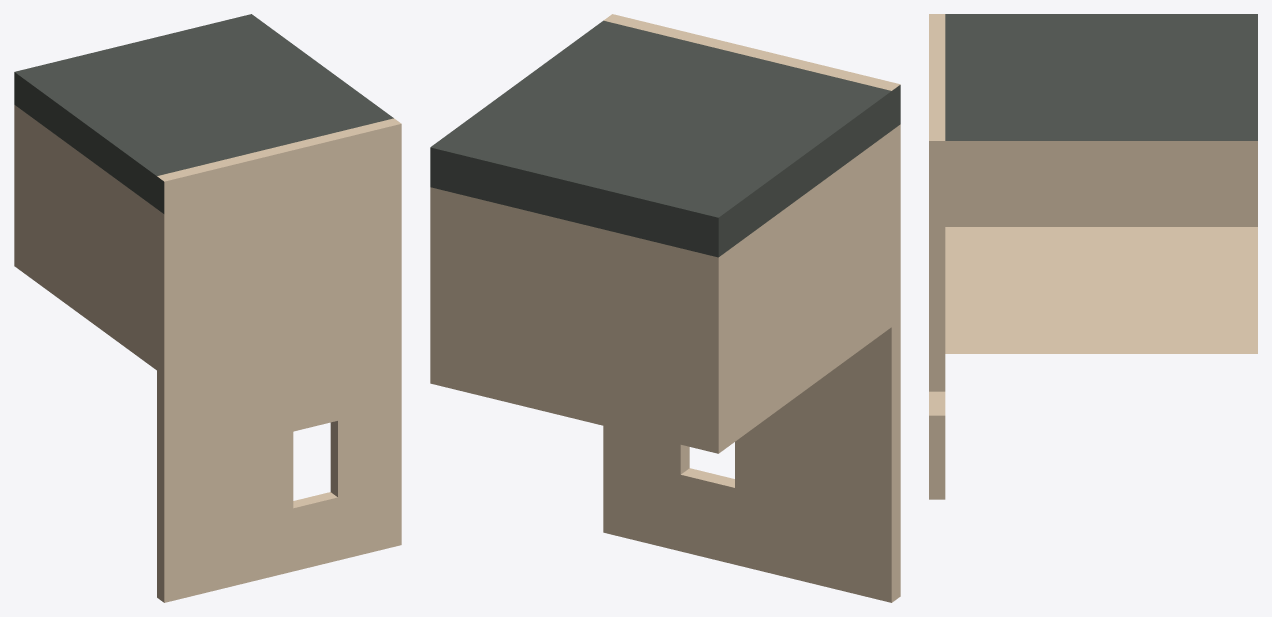
3 views of the same model, side by side, from view 1: azimuth 30°, elevation 25°; view 2: azimuth 150°, elevation 25°; view 3: azimuth 270°, elevation 25° (orthographic). The views are drawn at different scales.
Visible parts, largest first — view 1: Temp; view 2: Temp; view 3: Temp.
Boxes of the visible parts, <box> form: Temp: <box>14,14,401,602</box>; Temp: <box>430,14,900,602</box>; Temp: <box>929,14,1257,499</box>.
Bounding box in the file's own units: 669 × 1135 × 732.
